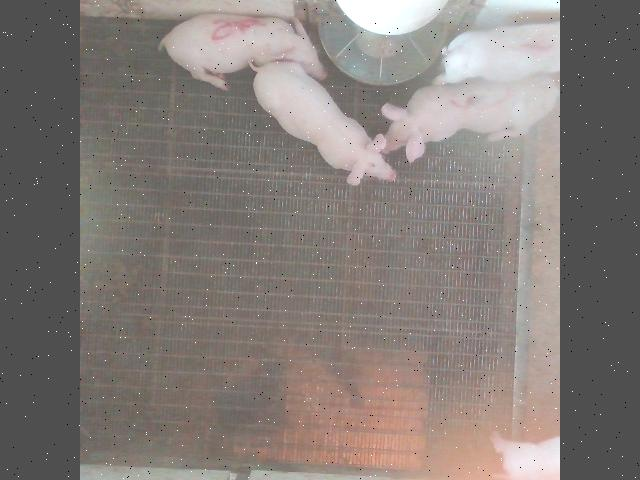pig-1: (435, 21, 558, 83)
pig-3: (382, 74, 558, 161)
pig-5: (159, 12, 326, 89)
